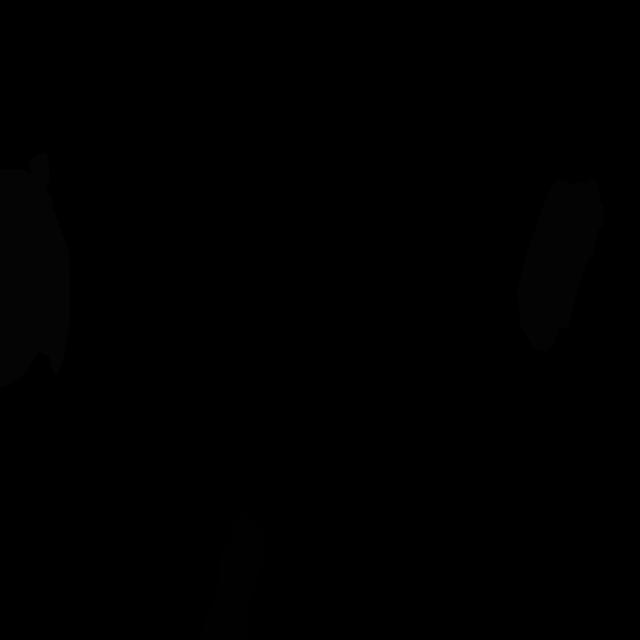metal: (517, 179, 604, 352)
rigid_plastic: (200, 509, 264, 640)
soft_plastic: (0, 152, 70, 388)
